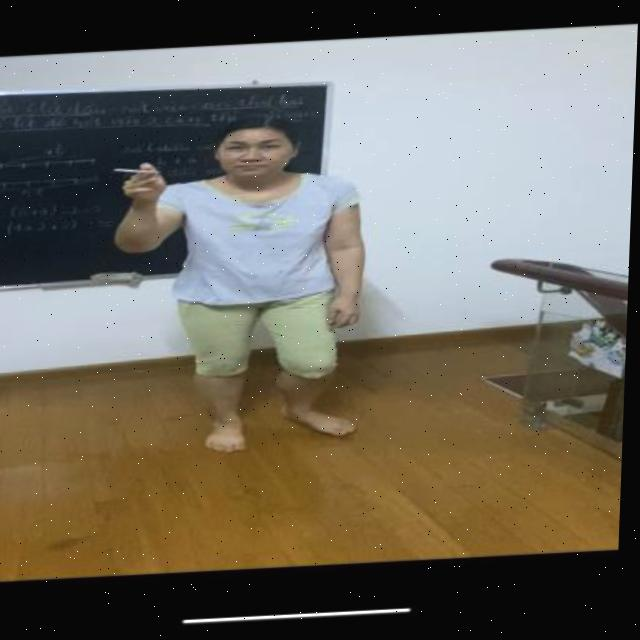cigarette: (111, 168, 147, 177)
